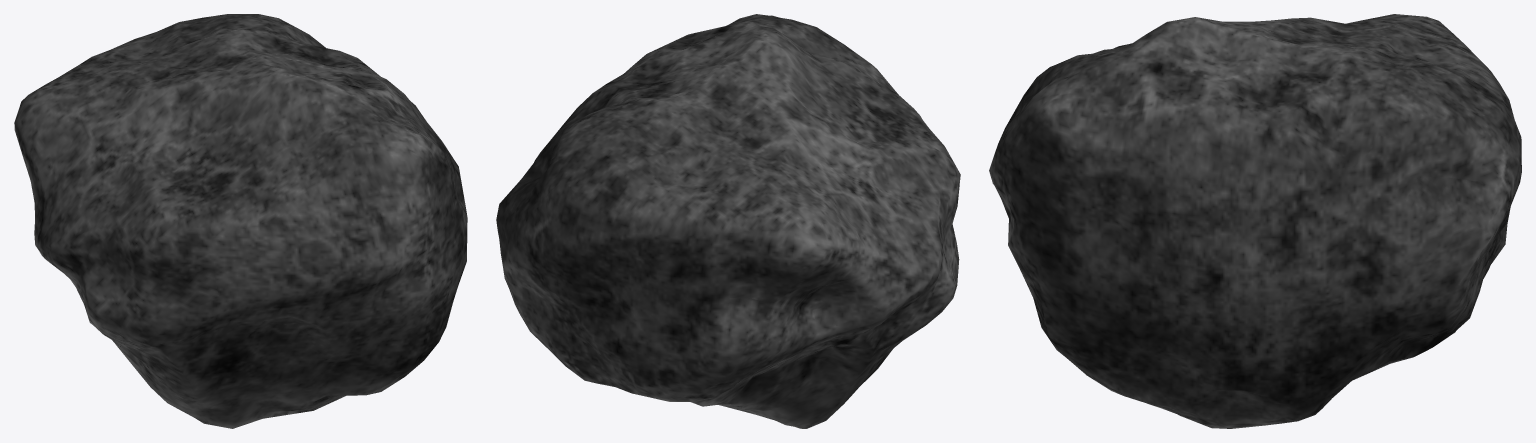
The model's file is Asteroid_6.fbx.
3 views of the same model, side by side, from view 1: azimuth 30°, elevation 25°; view 2: azimuth 150°, elevation 25°; view 3: azimuth 270°, elevation 25° (orthographic). The views are drawn at different scales.
Parts seen in each view (by area): view 1: Asteroid_no_6; view 2: Asteroid_no_6; view 3: Asteroid_no_6.
Boxes of the visible parts, x1,y1,x2,y2 form: Asteroid_no_6: [14, 14, 467, 428]; Asteroid_no_6: [496, 14, 960, 428]; Asteroid_no_6: [989, 14, 1521, 428].
Bounding box in the file's own units: 721 × 638 × 798.
Materials: 1 (1 with a texture image).
